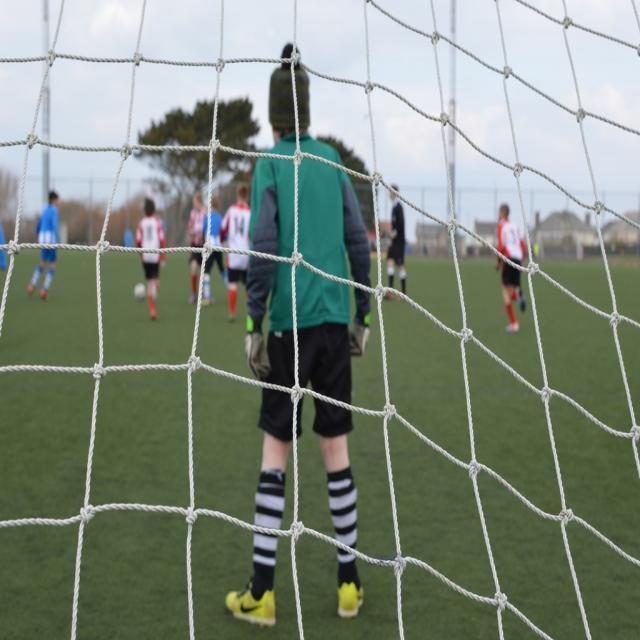ball: (133, 283, 147, 303)
